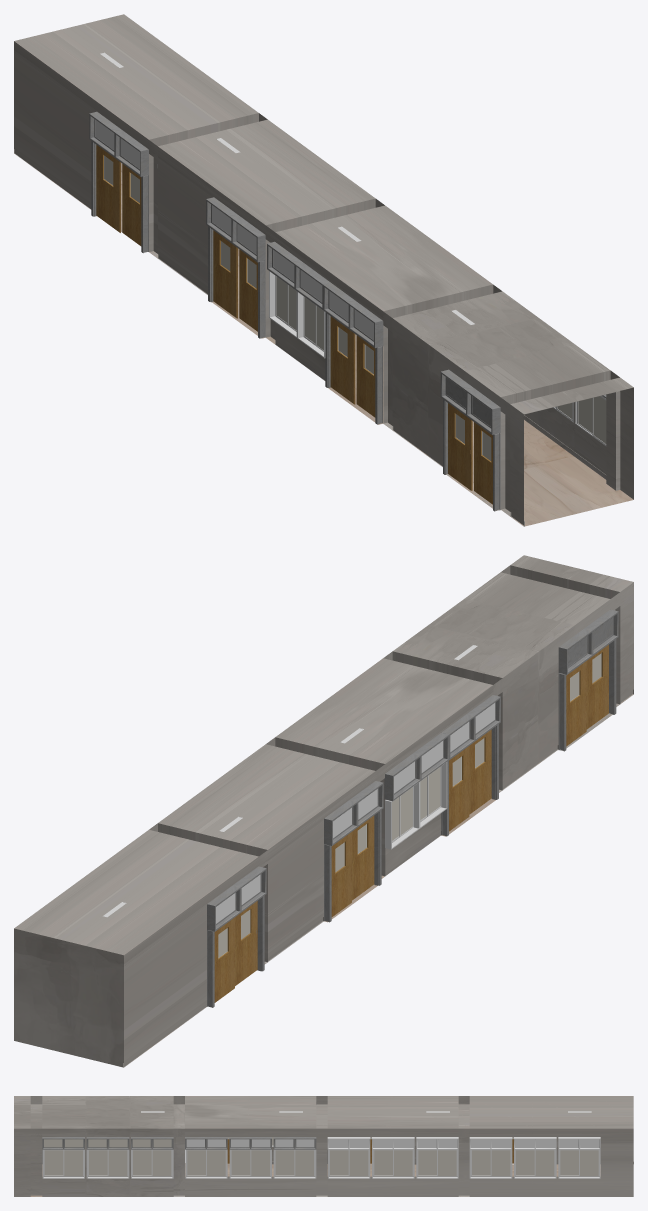
File: school_corridor.fbx
3 renders of one model, top to bottom at view 1: azimuth 30°, elevation 25°; view 2: azimuth 150°, elevation 25°; view 3: azimuth 270°, elevation 25°, orthographic. The views are drawn at different scales.
Parts seen in each view (by area): view 1: Cube, Cube.015, UP.028, Plane.008, Plane.012, Plane.016, Plane.004, UP.024, UP.030, UP.026, UP.032, Plane.007 (+10 smaller); view 2: Cube, UP.028, UP.032, Plane.003, Plane.007, Plane.015, Plane.011, UP.030, UP.026, Plane.002, Plane.012, Plane.016 (+10 smaller); view 3: Cube, sweethome3d_opening_on_rail_1_glass, sweethome3d_opening_on_rail_1_glass.001, sweethome3d_opening_on_rail_1_glass.008, sweethome3d_opening_on_rail_1_glass.015, sweethome3d_opening_on_rail_1_glass.017, sweethome3d_opening_on_rail_2_glass.002, sweethome3d_opening_on_rail_2_glass.003, sweethome3d_opening_on_rail_2_glass.004, sweethome3d_opening_on_rail_1_glass.002, sweethome3d_opening_on_rail_1_glass.003, sweethome3d_opening_on_rail_1_glass.004 (+50 smaller).
Boxes of the visible parts, bbox=[...] form: Cube: bbox=[14, 14, 633, 526]; Cube.015: bbox=[14, 153, 633, 526]; UP.028: bbox=[440, 369, 500, 434]; Plane.008: bbox=[330, 316, 355, 404]; Plane.012: bbox=[213, 230, 237, 318]; Plane.016: bbox=[96, 145, 120, 232]; Plane.004: bbox=[448, 403, 472, 490]; UP.024: bbox=[323, 283, 383, 347]; UP.030: bbox=[89, 111, 148, 176]; UP.026: bbox=[206, 197, 265, 262]; UP.032: bbox=[267, 241, 330, 309]; Plane.007: bbox=[356, 335, 375, 417]; Cube: bbox=[14, 555, 633, 1067]; UP.028: bbox=[558, 609, 618, 674]; UP.032: bbox=[384, 732, 449, 801]; Plane.003: bbox=[586, 644, 608, 729]; Plane.007: bbox=[469, 729, 491, 814]; Plane.015: bbox=[235, 901, 257, 985]; Plane.011: bbox=[352, 815, 374, 900]; UP.030: bbox=[207, 866, 266, 931]; UP.026: bbox=[324, 781, 383, 845]; Plane.002: bbox=[558, 639, 616, 751]; Plane.012: bbox=[331, 832, 351, 916]; Plane.016: bbox=[214, 917, 234, 1002]; Cube: bbox=[14, 1096, 633, 1196]; sweethome3d_opening_on_rail_1_glass: bbox=[108, 1150, 127, 1175]; sweethome3d_opening_on_rail_1_glass.001: bbox=[152, 1150, 171, 1175]; sweethome3d_opening_on_rail_1_glass.008: bbox=[349, 1150, 368, 1175]; sweethome3d_opening_on_rail_1_glass.015: bbox=[535, 1150, 554, 1175]; sweethome3d_opening_on_rail_1_glass.017: bbox=[491, 1150, 510, 1175]; sweethome3d_opening_on_rail_2_glass.002: bbox=[44, 1150, 63, 1175]; sweethome3d_opening_on_rail_2_glass.003: bbox=[231, 1150, 250, 1175]; sweethome3d_opening_on_rail_2_glass.004: bbox=[275, 1150, 294, 1175]; sweethome3d_opening_on_rail_1_glass.002: bbox=[64, 1150, 82, 1175]; sweethome3d_opening_on_rail_1_glass.003: bbox=[251, 1150, 269, 1175]; sweethome3d_opening_on_rail_1_glass.004: bbox=[295, 1150, 313, 1175].
Size of the model in its own units: 1459 by 1266 by 10351.
17 materials, 4 textured.
